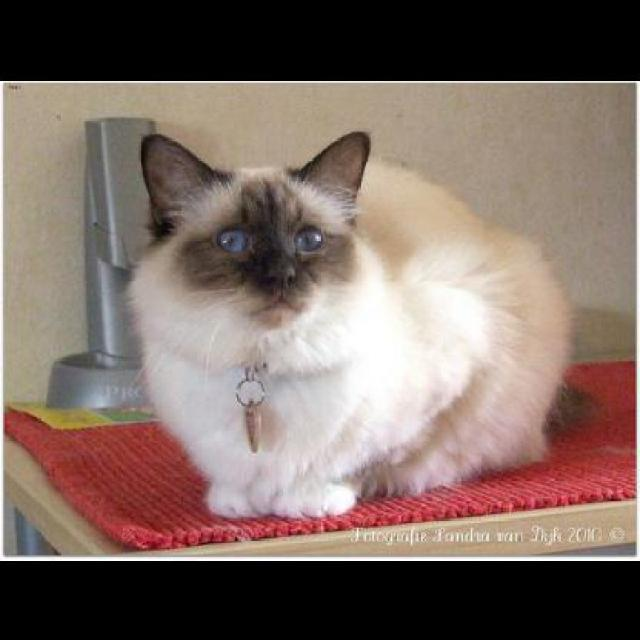unauthorized: (125, 128, 597, 520)
